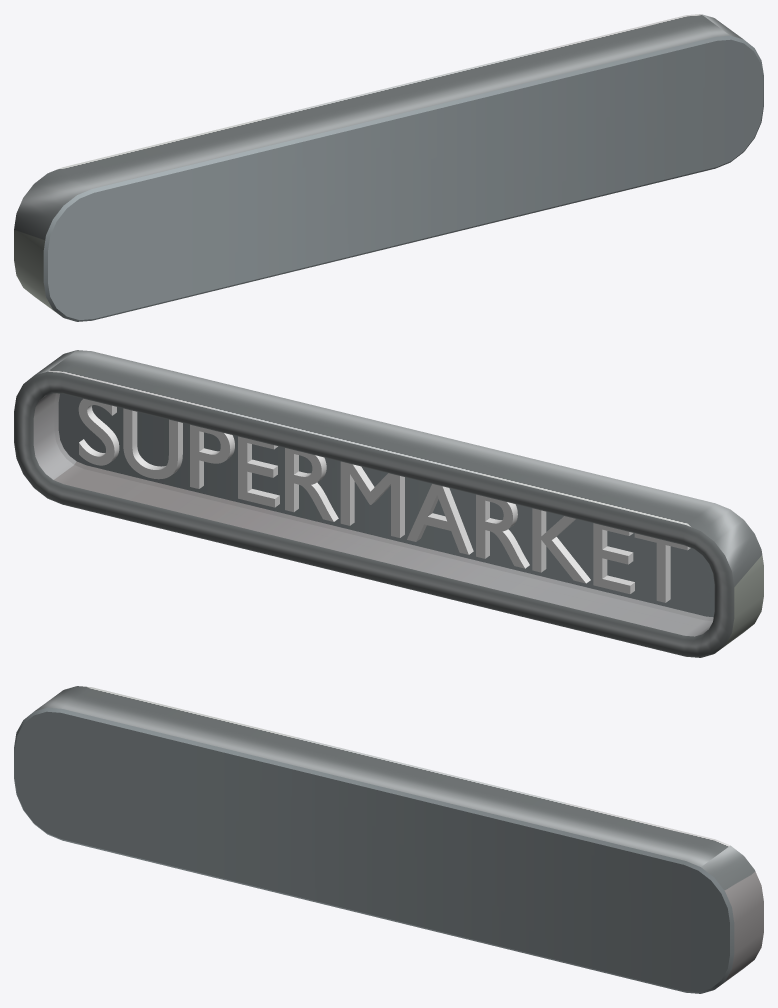
File: Viveska.fbx
The picture shows the model from 3 angles, top to bottom: view 1: azimuth 30°, elevation 25°; view 2: azimuth 150°, elevation 25°; view 3: azimuth 330°, elevation 25°; orthographic projection.
Visible parts, largest first — view 1: Viveska; view 2: Viveska; view 3: Viveska.
Part boxes in pixels (x1=…): Viveska: x1=14, y1=14, x2=763, y2=321; Viveska: x1=14, y1=350, x2=763, y2=657; Viveska: x1=14, y1=686, x2=763, y2=993.
Size of the model in its own units: 7.73 by 1.35 by 0.6082.
